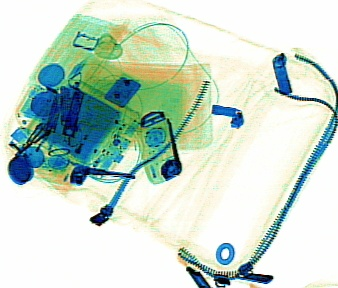lighter: (47, 108, 98, 181)
